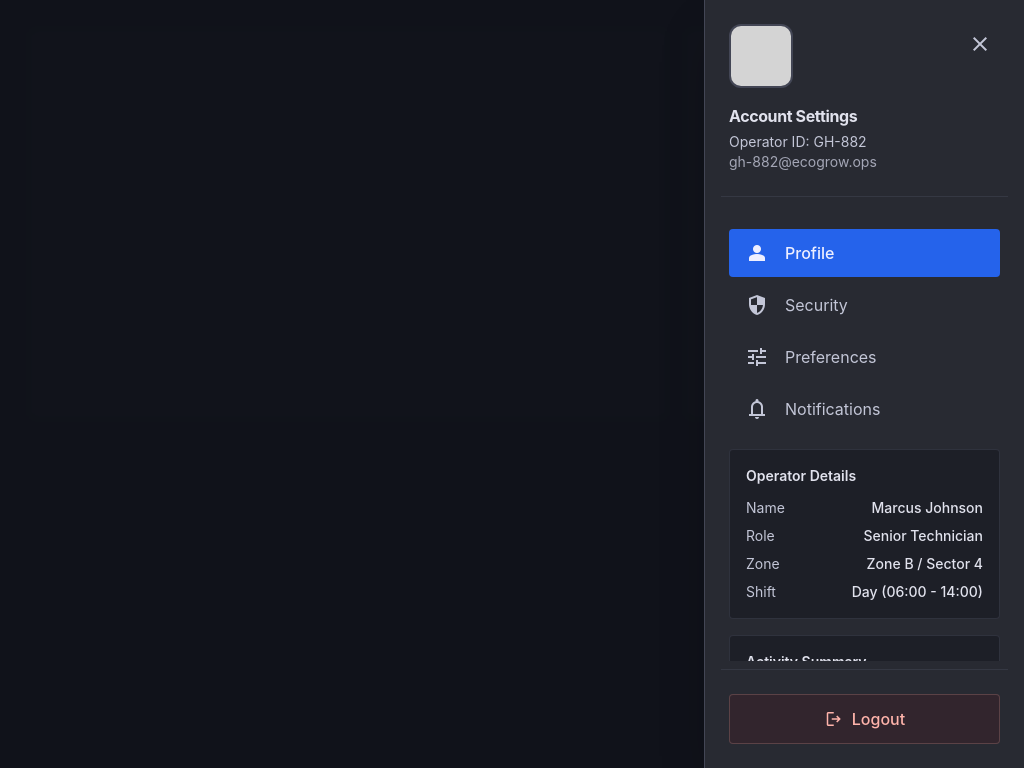
Test: ProfilePanel › switches to preferences tab when clicked
Click the button "Preferences".
click(864, 357)  # box [729,333,1000,381]
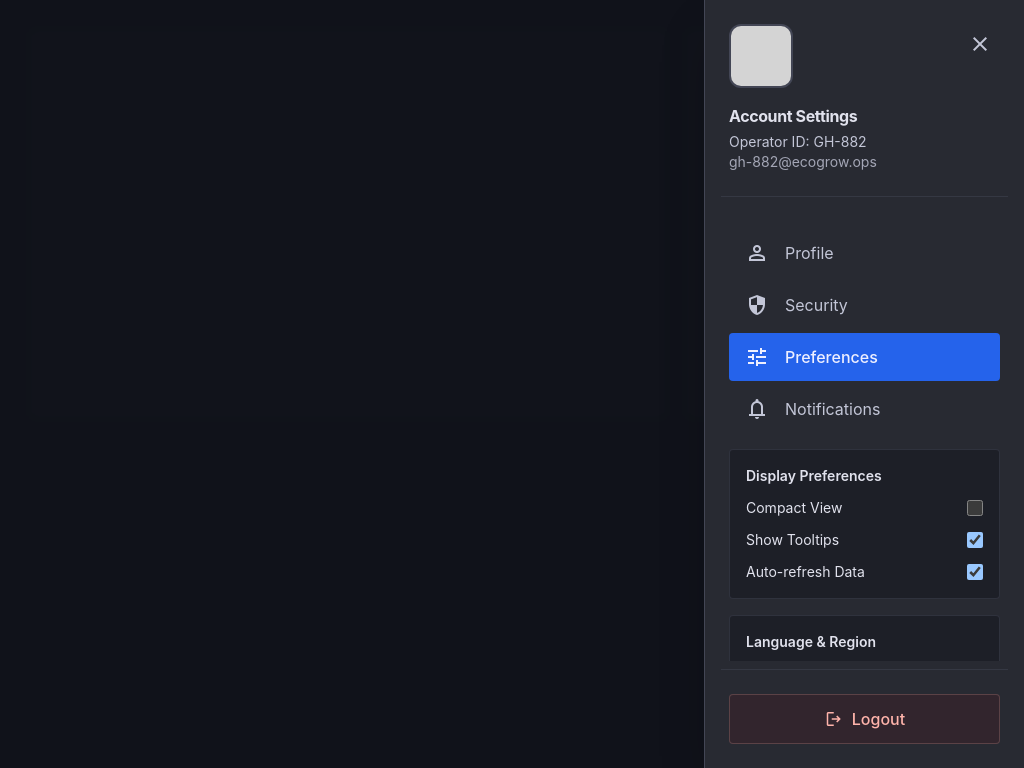
Now the heading "Display Preferences" is shown, box [746,467,882,484]
Now the heading "Language & Region" is shown, box [746,633,876,650]
